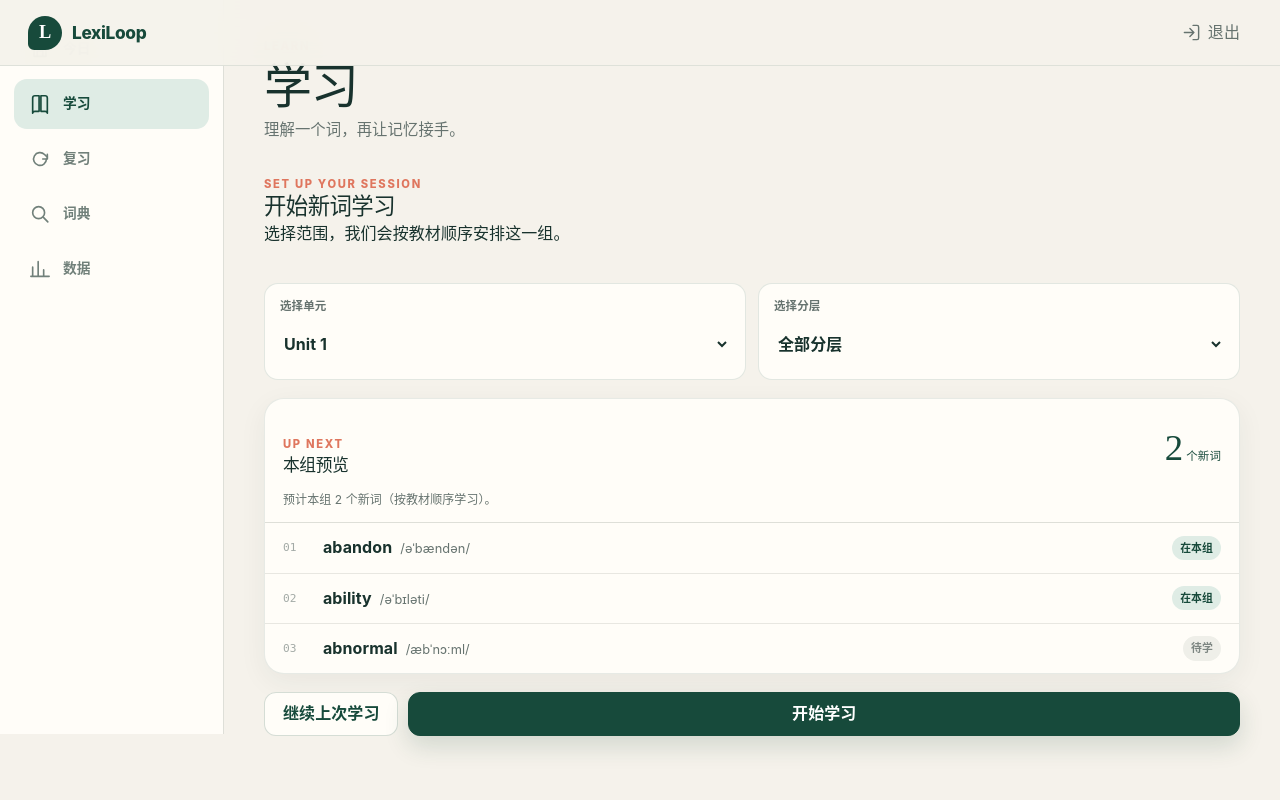
Test: LearnSetupPage › offers to continue an interrupted session instead of creating a new one
This screenshot has width=1280, height=800.
(page scrolled)
Expected: the heading "学习" is shown, [264,56,358,115]
Click the button "继续上次学习" at (331, 714), box [264,692,398,736]
(page scrolled)
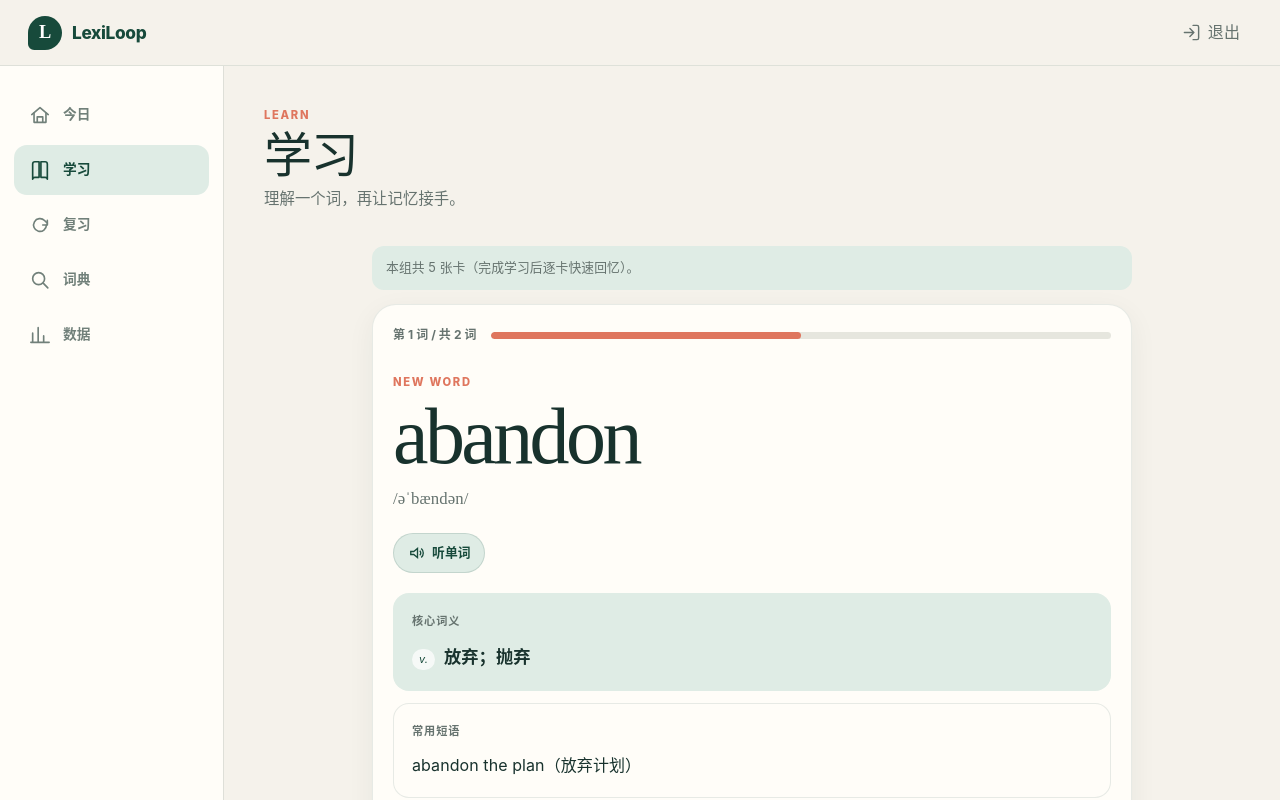
Expected: the text "第 1 词 / 共 2 词" is shown, [393,325,476,345]
